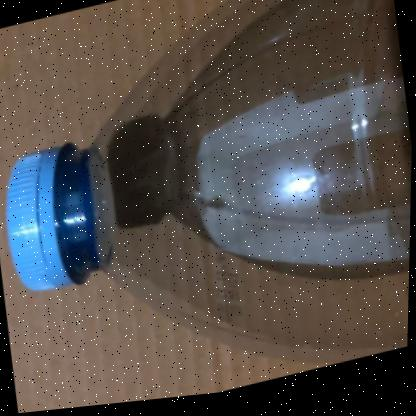bottle cap: (1, 1, 411, 416)
